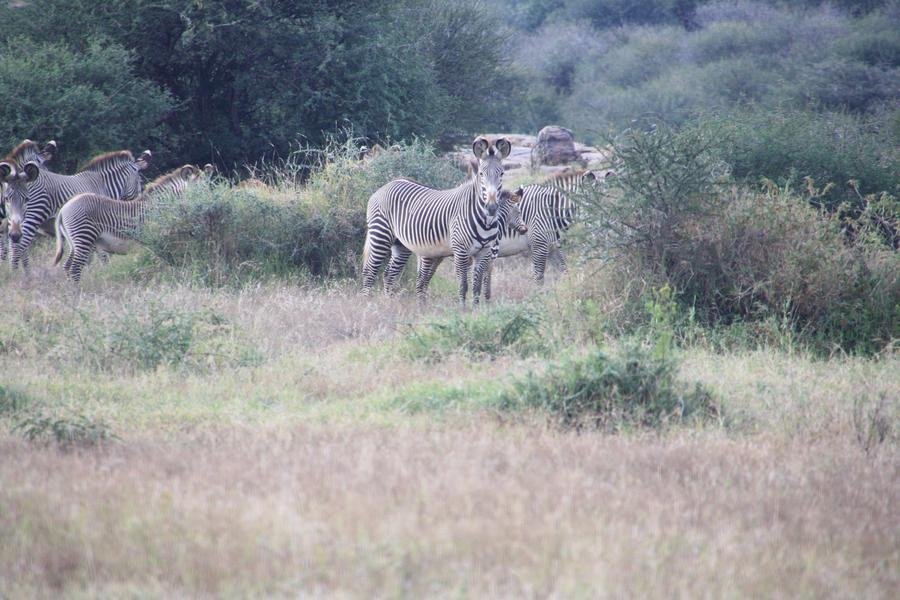zebra_grevys: (62, 188, 140, 243)
